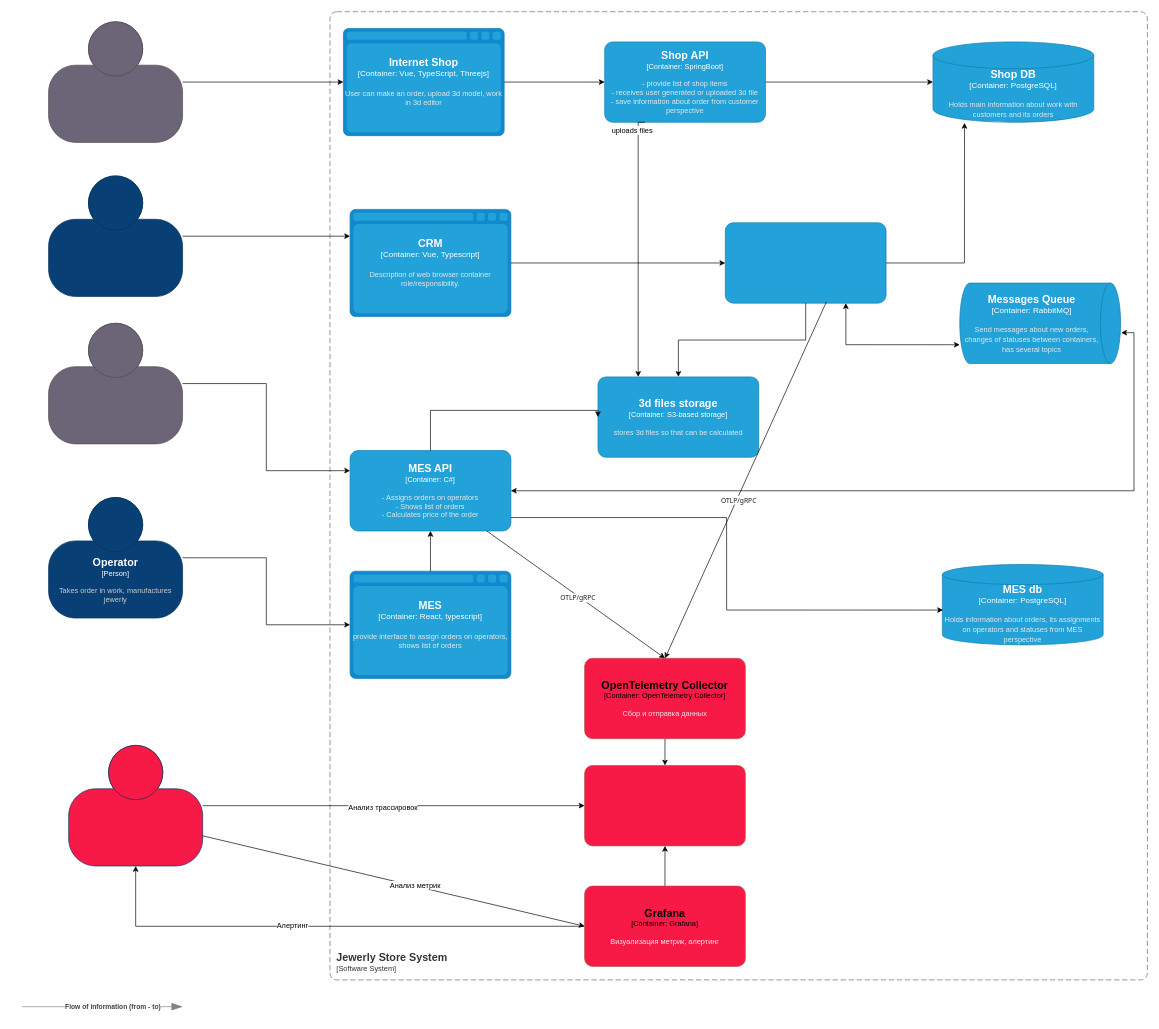
Some shapes in this 1159 by 1029 pixel diagram are drawn without their labels. Here are the shapes that lost their labels. From the top down, the centre of each, then its label:
(115,81): Customer [Person] Description of external person.
(115,235): Seller [Person] Operates with order, confirms manufacturing for the user
(805,262): CRM API [Container: SpringBoot] Description of container role/responsibility.
(115,383): API user [Person] Description of external person.
(135,805): 3 линия поддержки/команда разработки [Person] Поддержка приложения
(664,805): Jaeger [Container: Jaeger] Хранение и визуализация деталей трассировки
